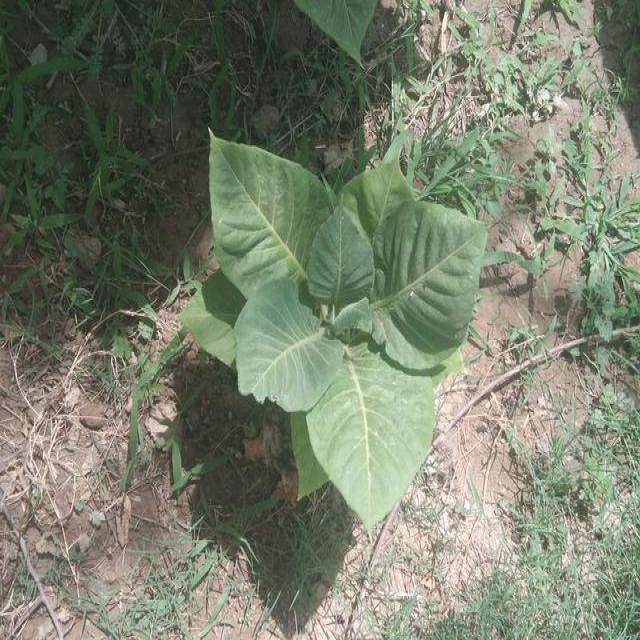crop: (180, 118, 494, 526)
